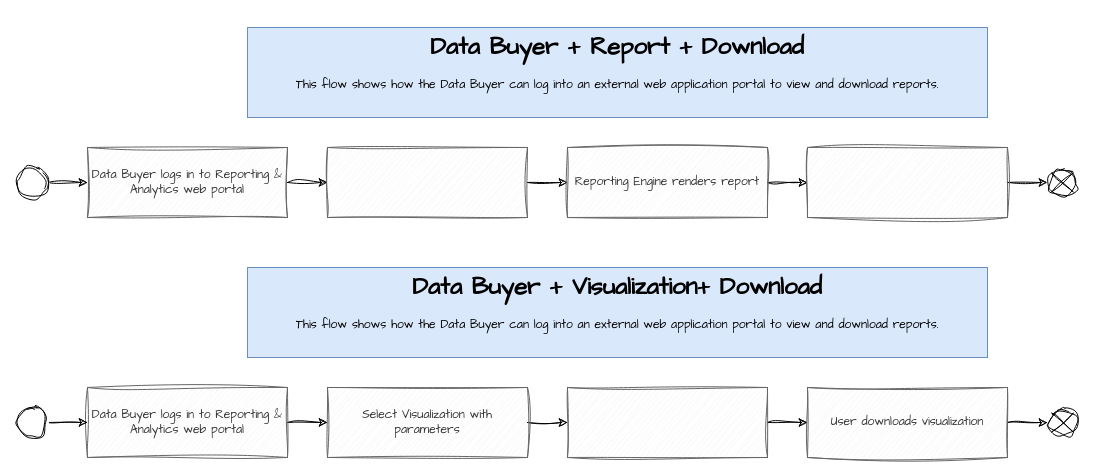
The diagram is 1095 pixels wide and 475 high, and some of its shapes have lost their labels. Here are the shapes that lost their labels. From the top down, the centre of each, then its label:
At pixel 427 182: "Select report with parameters".
At pixel 907 182: "User downloads report".
At pixel 667 422: "Visualisation Engine renders report".
